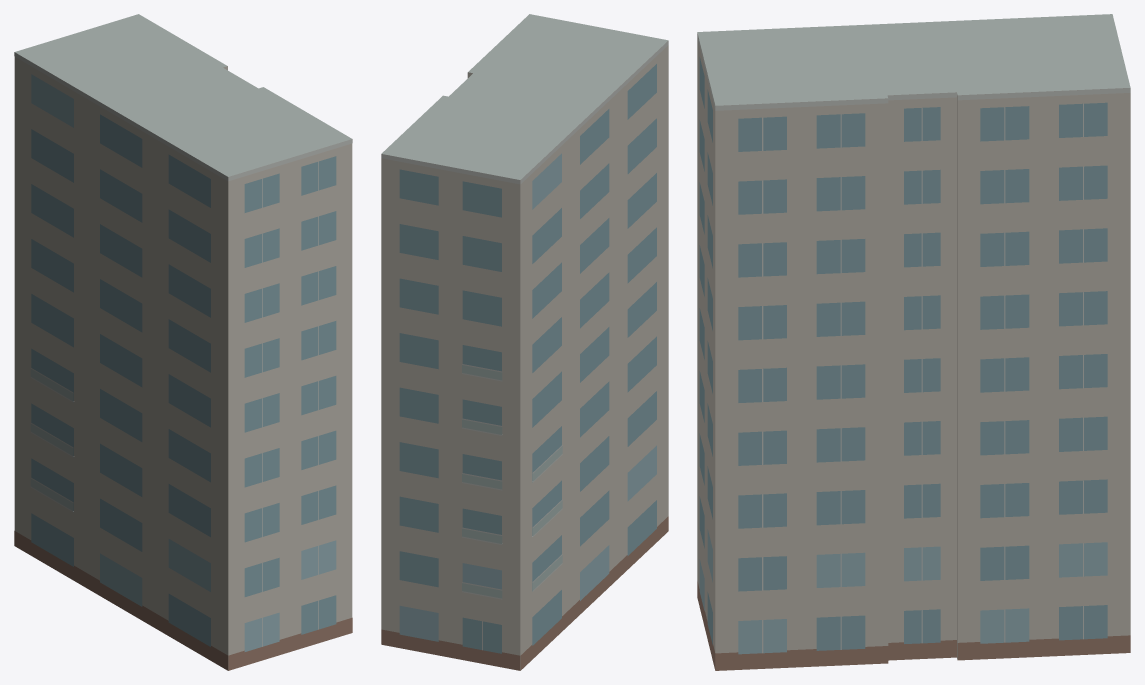
The model's file is survey-upis-32733621.glb.
The picture shows the model from 3 angles, left to right: view 1: azimuth 30°, elevation 25°; view 2: azimuth 150°, elevation 25°; view 3: azimuth 270°, elevation 25°; orthographic projection. The views are drawn at different scales.
Visible parts, largest first — view 1: survey-upis-32733621.tmp; view 2: survey-upis-32733621.tmp; view 3: survey-upis-32733621.tmp.
Part boxes in pixels (x1,y1,x2,y2): survey-upis-32733621.tmp: (14, 14, 352, 670); survey-upis-32733621.tmp: (381, 14, 668, 670); survey-upis-32733621.tmp: (697, 14, 1130, 670).
Size of the model in its own units: 9.52 by 27.3 by 18.98.
